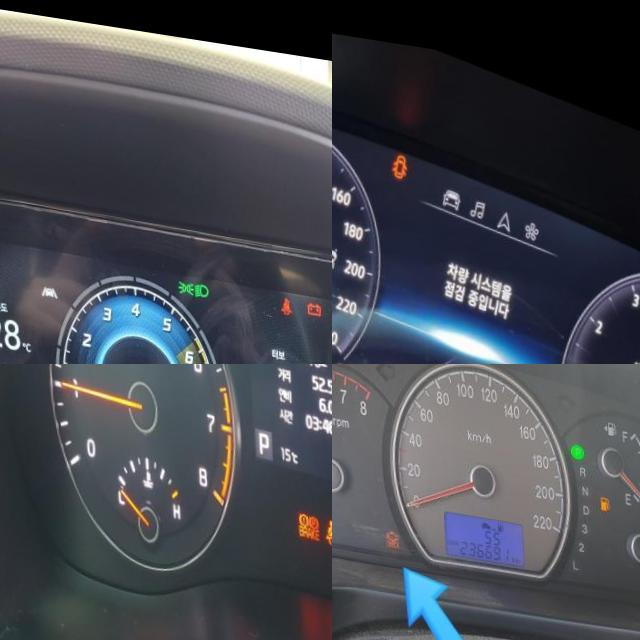Doors: (387, 139, 409, 170)
Low beam: (190, 269, 206, 287)
Low fuel level: (595, 480, 606, 497)
SideLamp: (173, 266, 191, 284)
